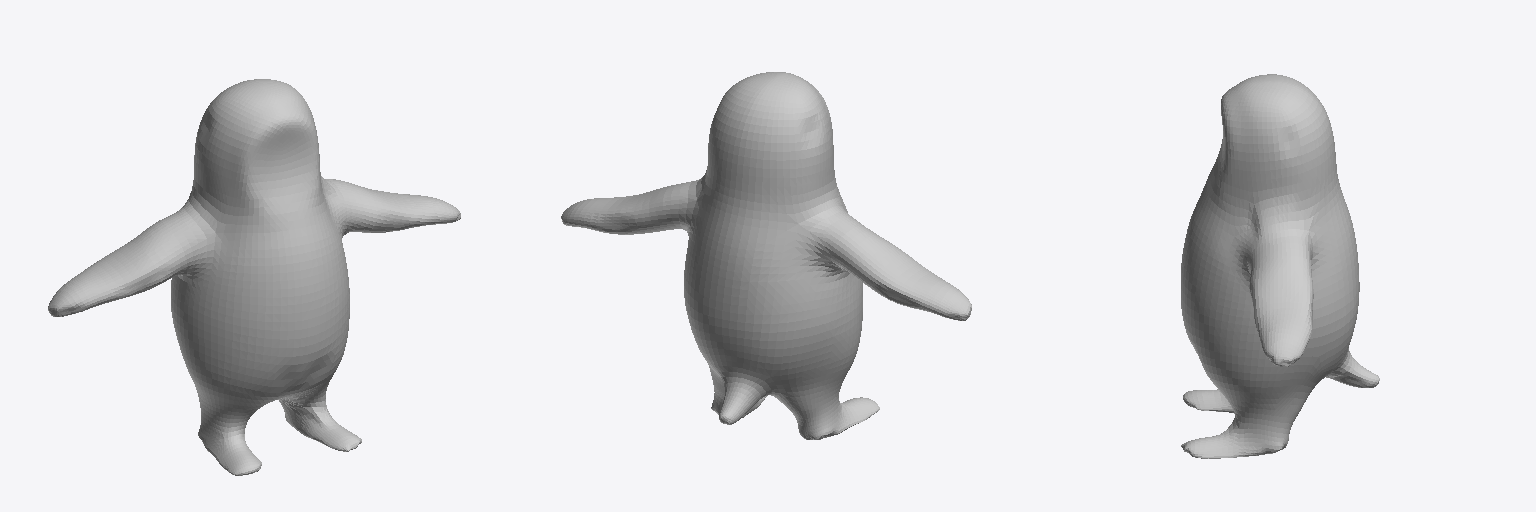
3 views of the same model, side by side, from view 1: azimuth 30°, elevation 25°; view 2: azimuth 150°, elevation 25°; view 3: azimuth 270°, elevation 25° (orthographic).
Parts seen in each view (by area): view 1: ZBrush_defualt_group; view 2: ZBrush_defualt_group; view 3: ZBrush_defualt_group.
Part boxes in pixels (x1,y1,x2,y2): ZBrush_defualt_group: (48,79,460,475); ZBrush_defualt_group: (561,72,971,439); ZBrush_defualt_group: (1181,74,1379,458).
Bounding box in the file's own units: 12.06 × 9.85 × 5.11.